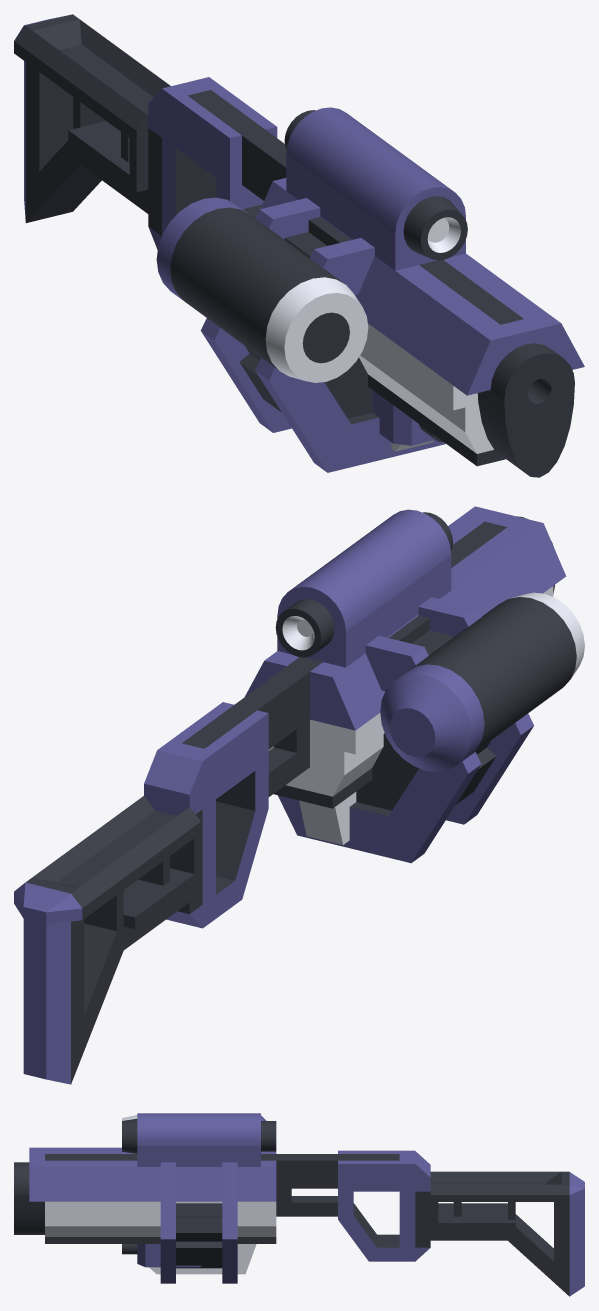
The model's file is GunSix.fbx.
3 renders of one model, top to bottom at view 1: azimuth 30°, elevation 25°; view 2: azimuth 150°, elevation 25°; view 3: azimuth 270°, elevation 25°, orthographic. The views are drawn at different scales.
Parts seen in each view (by area): view 1: mergedBlocks; view 2: mergedBlocks; view 3: mergedBlocks.
Boxes of the visible parts, x1,y1,x2,y2 form: mergedBlocks: (14, 14, 584, 477); mergedBlocks: (14, 506, 584, 1084); mergedBlocks: (14, 1113, 584, 1296).
Size of the model in its own units: 11 by 12.5 by 37.
